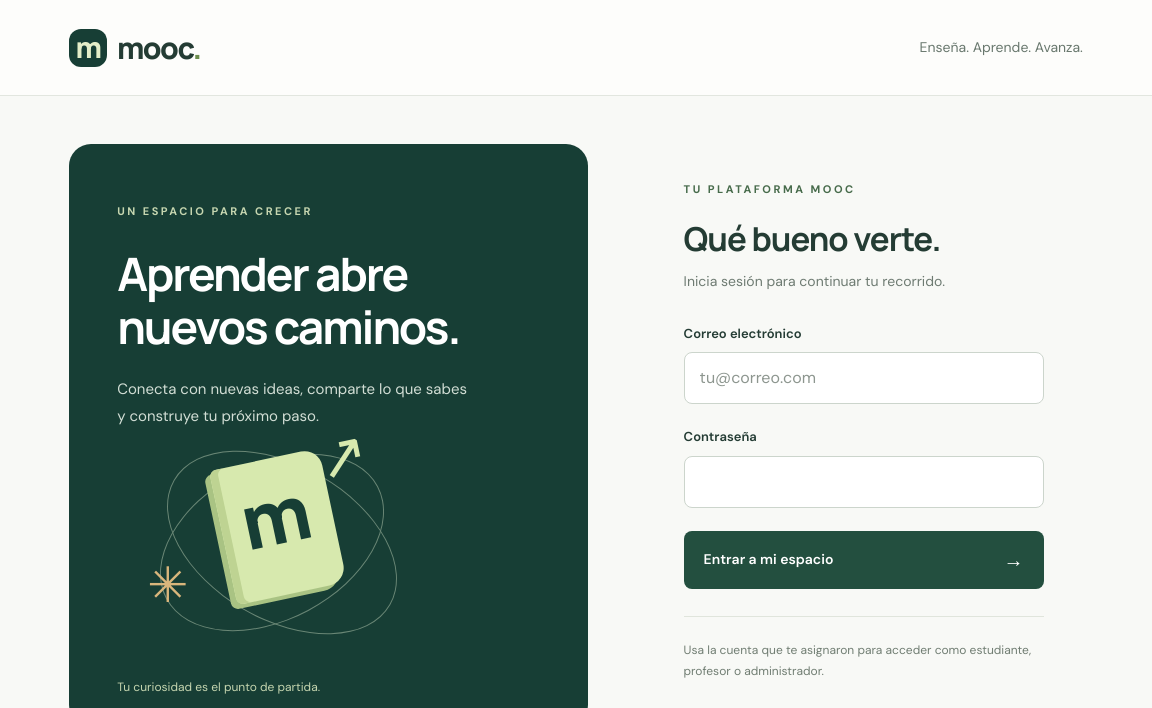
Test: muestra errores de login sin dar acceso
Type "estudiante@example.test" into the field labelled "Correo electrónico".
click(864, 378); type("estudiante@example.test")  # box top-left (684, 352), bottom-right (1044, 404)
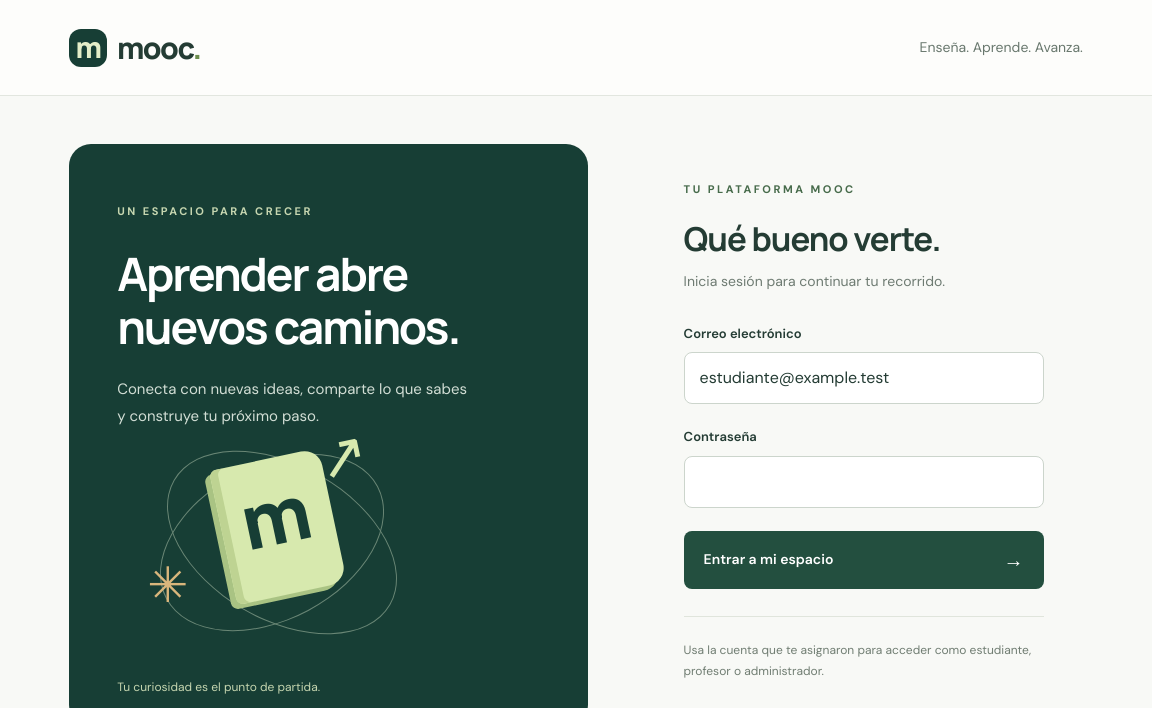
Type "incorrecta" into the password field labelled "Contraseña".
click(864, 482); type("incorrecta")  # box top-left (684, 456), bottom-right (1044, 508)
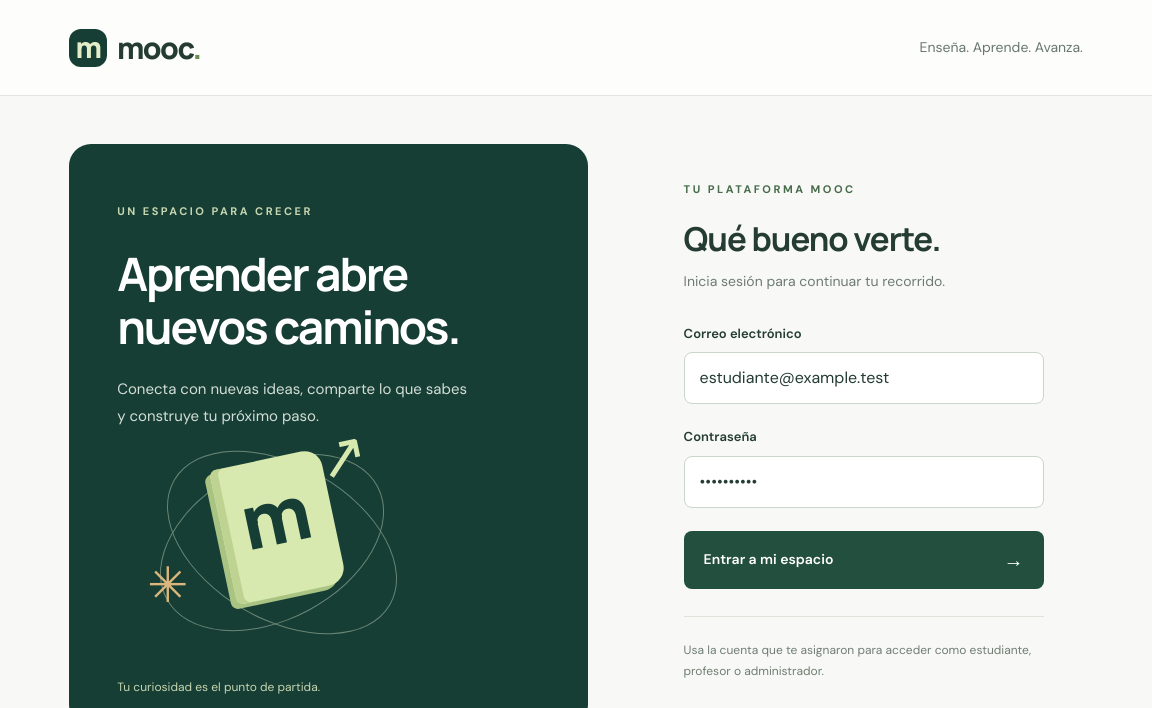
Click the button "Entrar a mi espacio →".
click(768, 559)  # box top-left (684, 531), bottom-right (1044, 589)
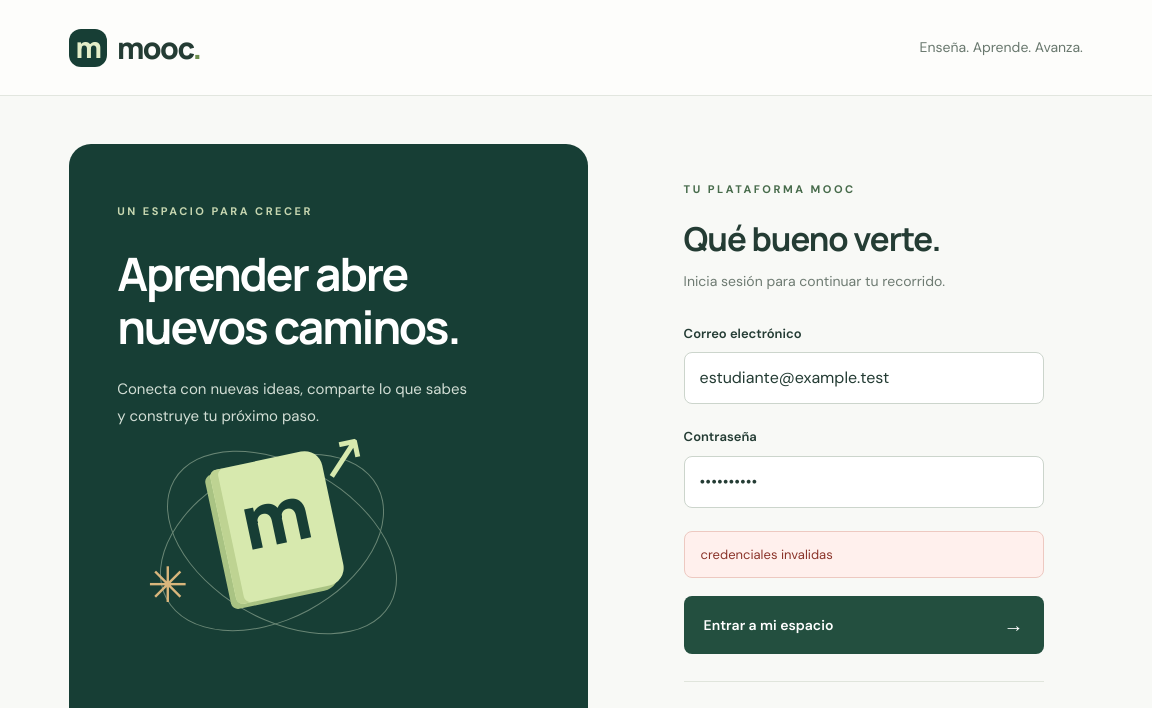
Expected: the message "credenciales invalidas" is shown, top-left (684, 531), bottom-right (1044, 578)
Expected: the text "credenciales invalidas" is shown, top-left (701, 546), bottom-right (833, 563)
